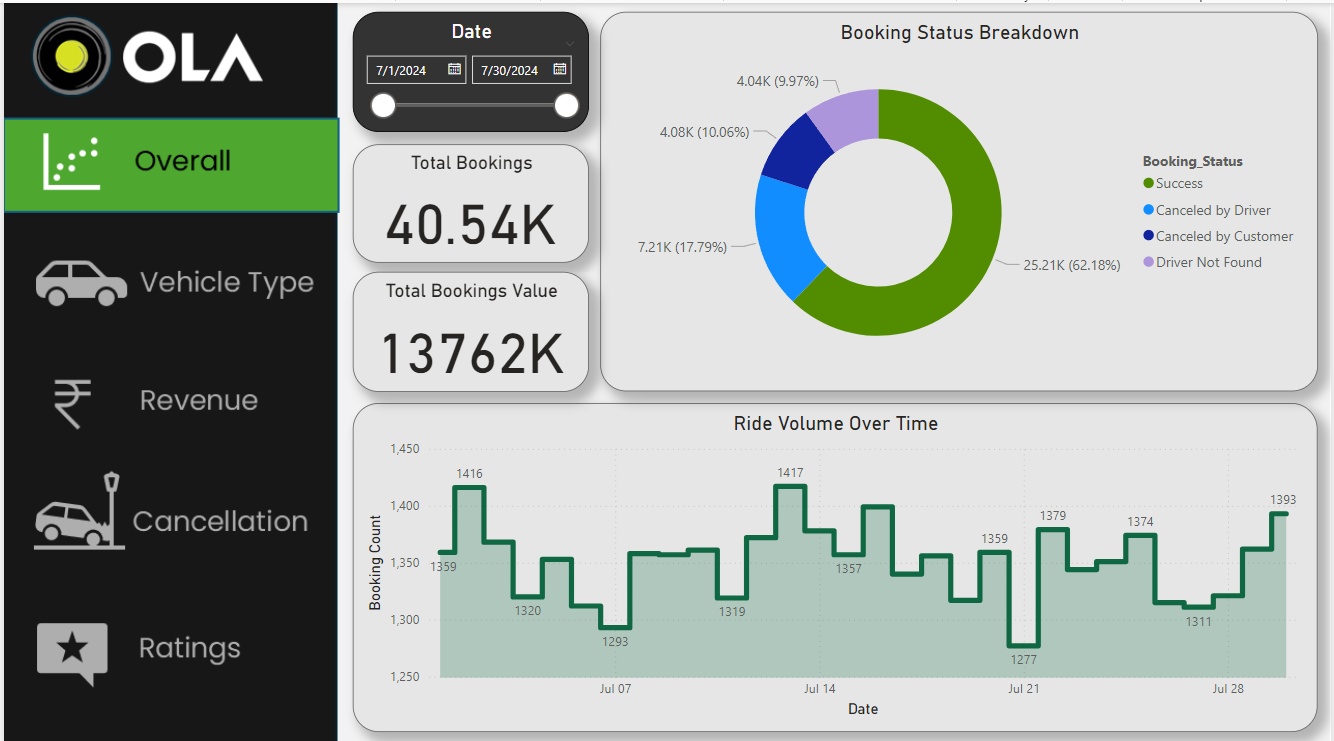

What the dashboard file says about the page in this screenshot:
{"tool":"powerbi","page":{"name":"Overall","canvas":[1280,720],"ordinal":0},"visuals":[{"type":"actionButton","box":[0,223.2,324.5,90.5],"z":0},{"type":"actionButton","box":[0,340.2,324.5,90.5],"z":1000},{"type":"actionButton","box":[0,445.2,324.5,90.5],"z":2000},{"type":"actionButton","box":[0,580.3,324.5,90.5],"z":3000},{"type":"lineChart","title":"Ride Volume Over Time","fields":{"Y":["CountNonNull(Bookings.Booking_ID)"],"Category":["Bookings.Date"]},"box":[336.6,386.1,931.4,317.3],"z":4000},{"type":"donutChart","title":"Booking Status Breakdown","fields":{"Category":["Bookings.Booking_Status"],"Y":["CountNonNull(Bookings.Booking_Status)"]},"box":[575.5,8.4,692.5,366.8],"z":5000},{"type":"slicer","title":"Date","fields":{"Values":["Bookings.Date"]},"box":[336.6,8.4,228,115.8],"z":6000},{"type":"card","title":"Total Bookings","fields":{"Values":["CountNonNull(Bookings.Booking_ID)"]},"box":[336.6,136.3,228,114.6],"z":7000},{"type":"card","title":"Total Bookings Value","fields":{"Values":["Sum(Bookings.Booking_Value)"]},"box":[336.6,259.4,228,115.8],"z":8000}]}

Visuals, with their boxes in screenshot pixels (x1, y1, x2, y2), scaled from the page's 1280x720 canvas onto the 1334x741 screenshot:
actionButton: pyautogui.locateOnScreen(0, 230, 338, 323)
actionButton: pyautogui.locateOnScreen(0, 350, 338, 443)
actionButton: pyautogui.locateOnScreen(0, 458, 338, 551)
actionButton: pyautogui.locateOnScreen(0, 597, 338, 690)
"Ride Volume Over Time" lineChart: pyautogui.locateOnScreen(351, 397, 1321, 724)
"Booking Status Breakdown" donutChart: pyautogui.locateOnScreen(600, 9, 1321, 386)
"Date" slicer: pyautogui.locateOnScreen(351, 9, 588, 128)
"Total Bookings" card: pyautogui.locateOnScreen(351, 140, 588, 258)
"Total Bookings Value" card: pyautogui.locateOnScreen(351, 267, 588, 386)
